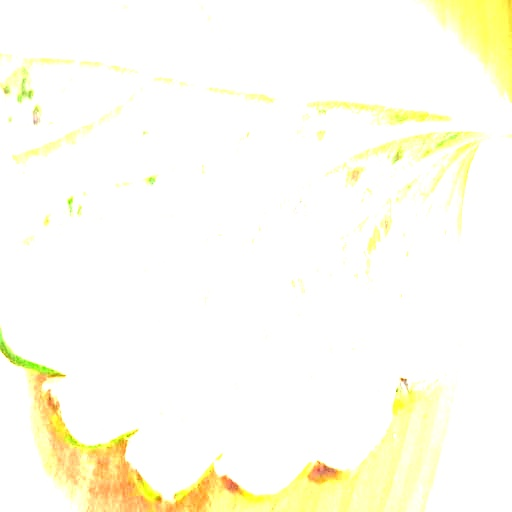Angular Leafspot: (0, 64, 471, 507)
